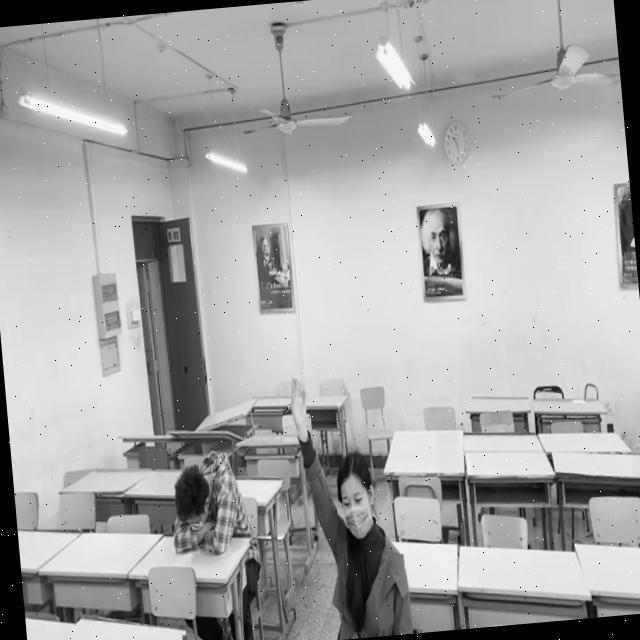sleep: (165, 449, 248, 560)
study: (288, 369, 411, 640)
